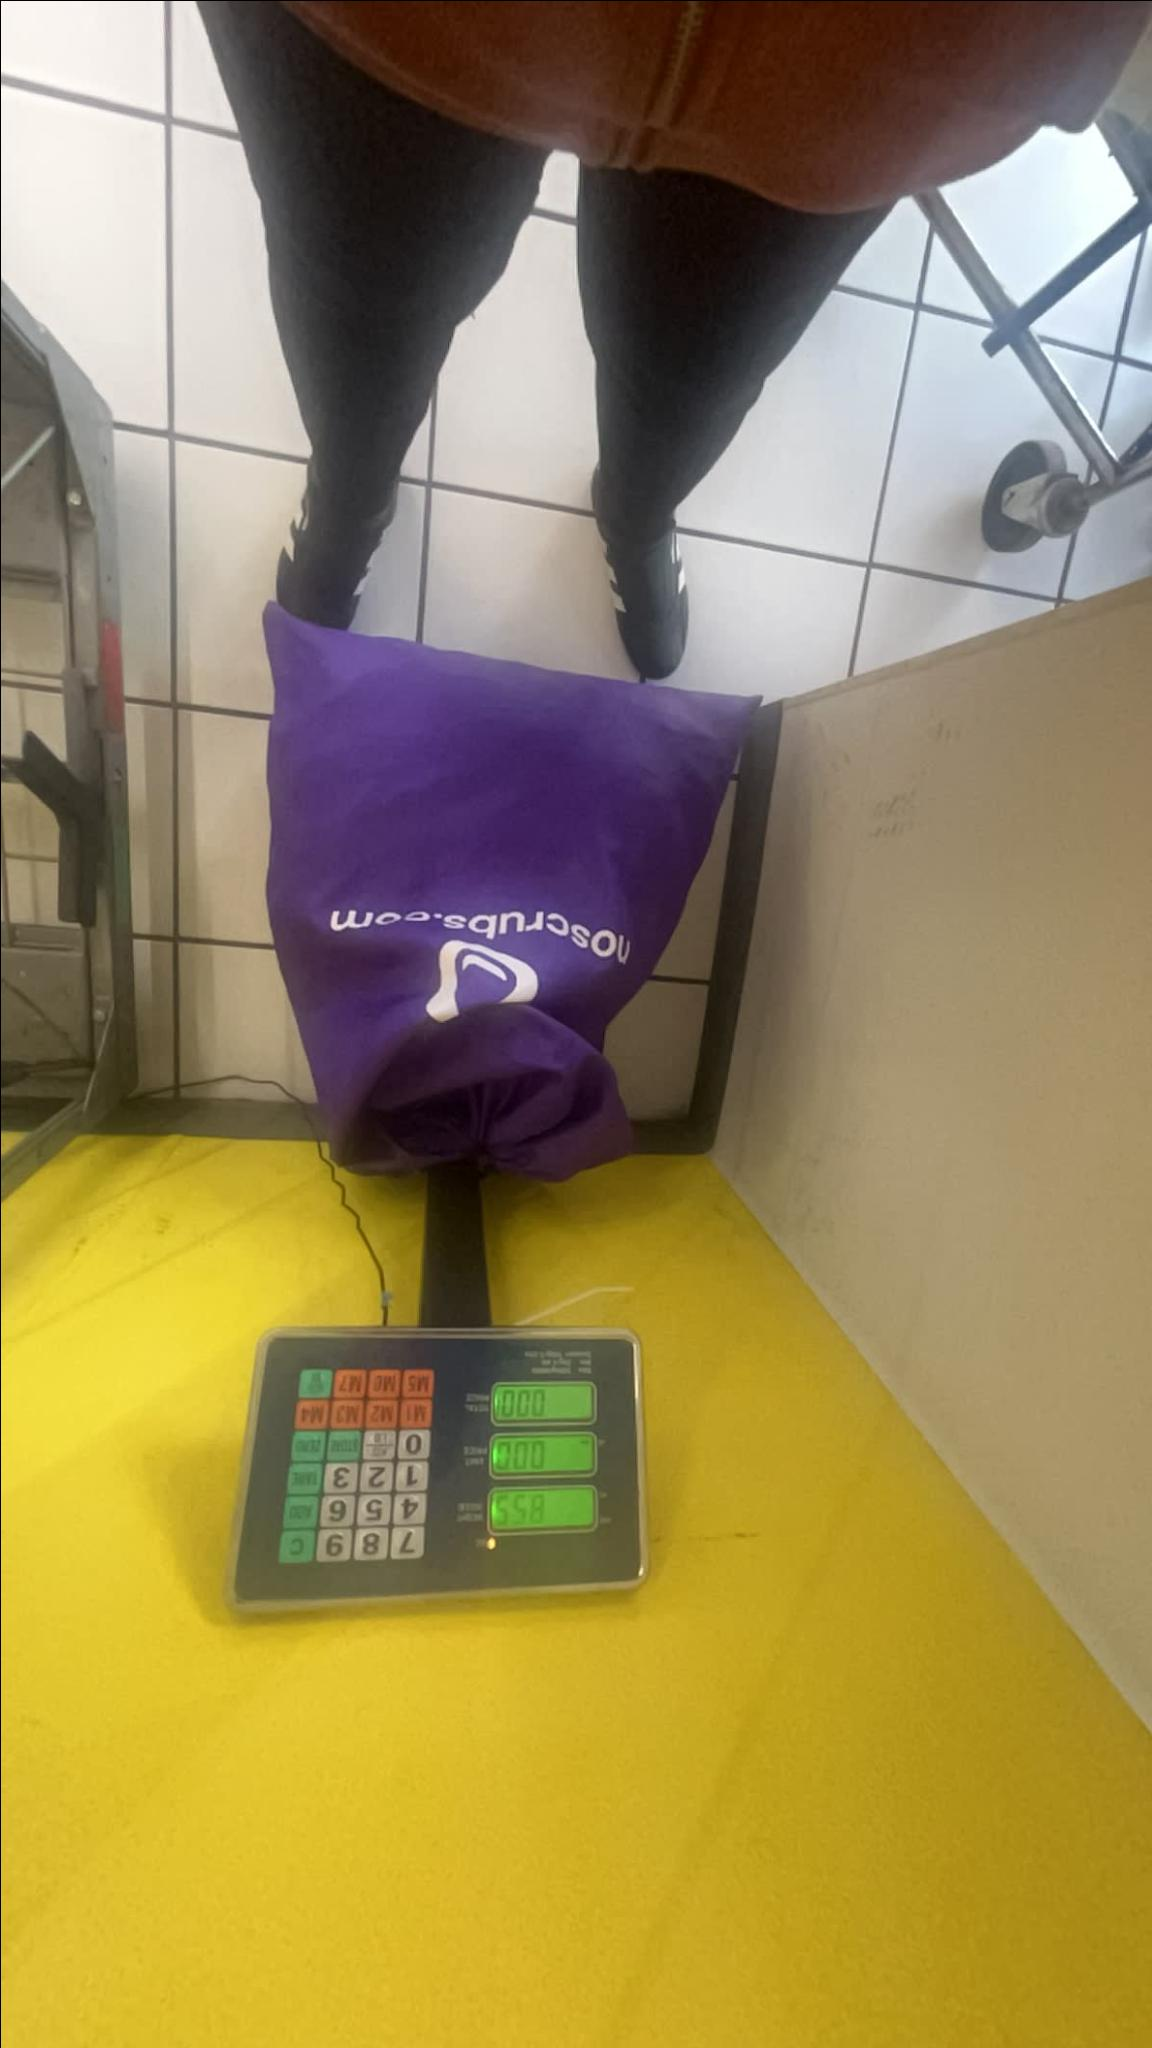Inactive: (490, 1380, 594, 1424), (484, 1434, 597, 1474)
LED-display: (486, 1488, 598, 1530)
